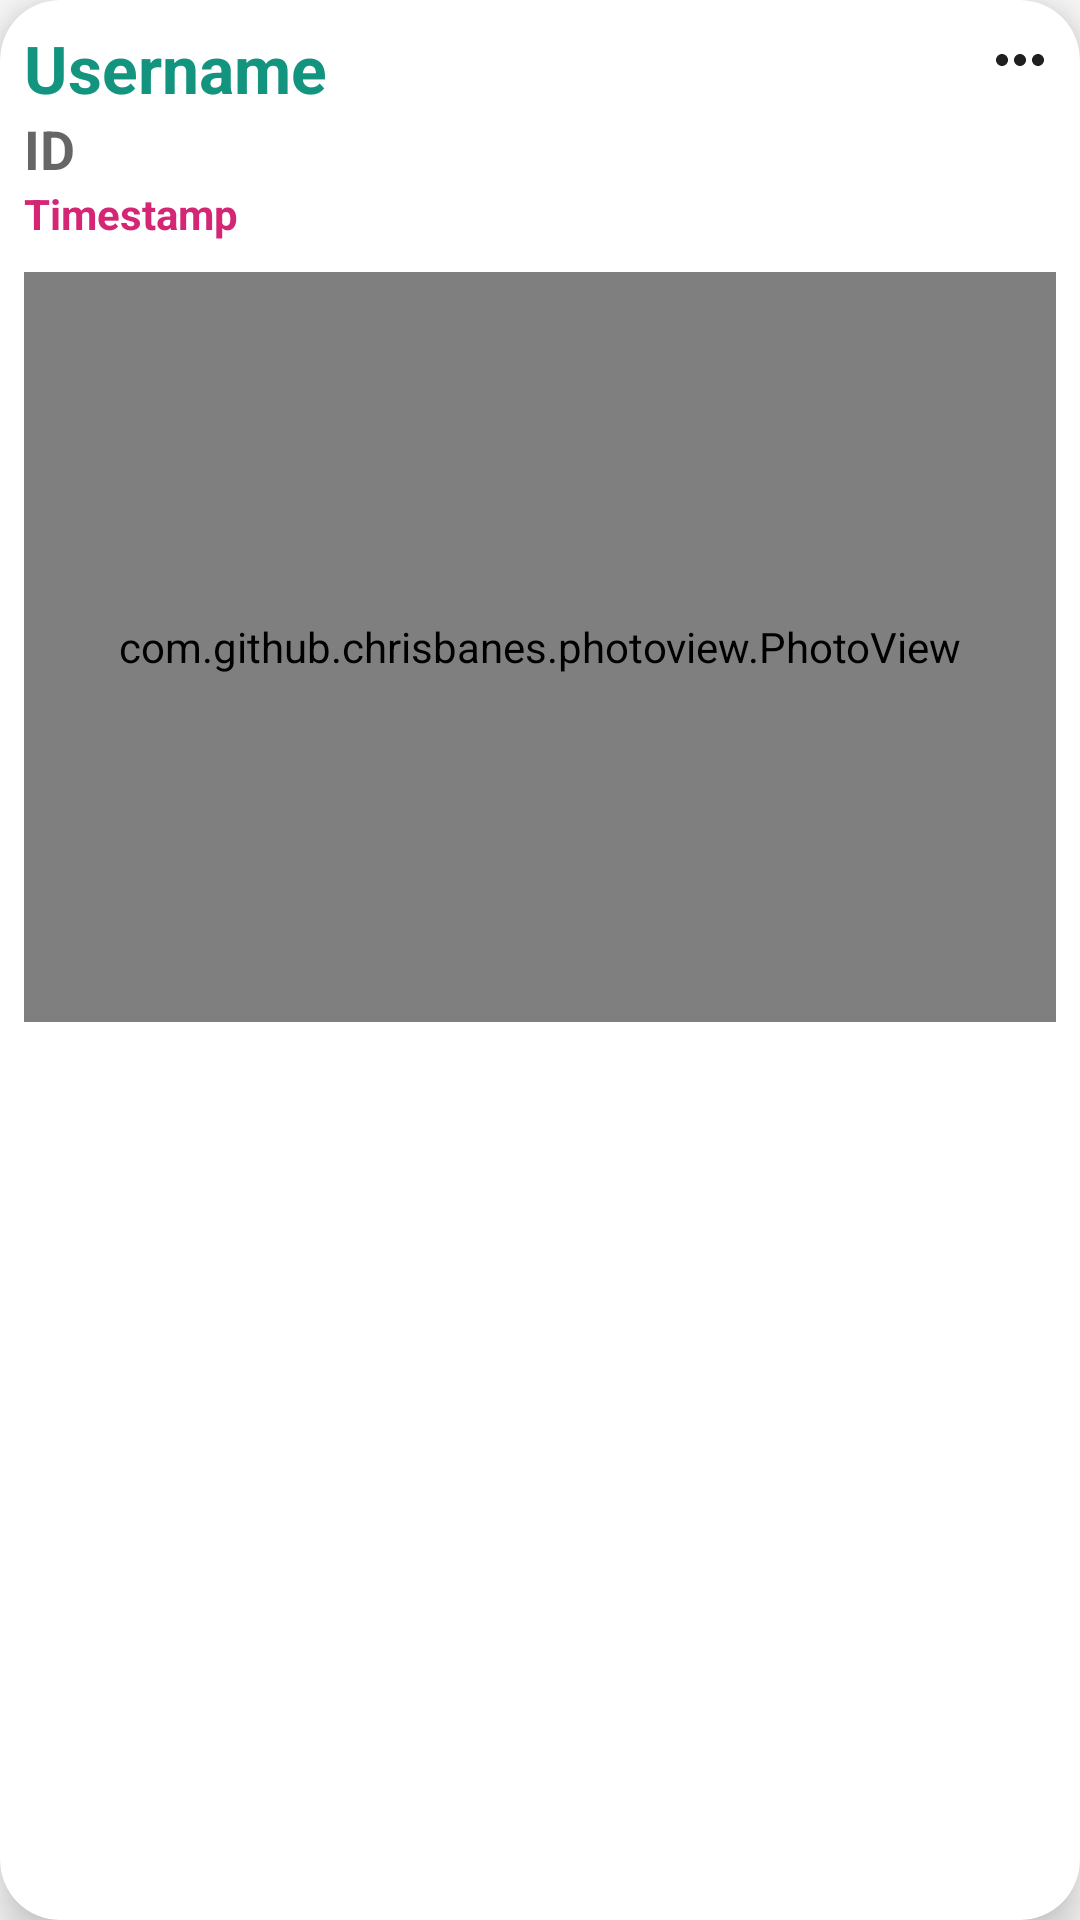

Point at icon controls on the screen. Image size 1080*1920, points as [x,y].
menu: [1020,60]
